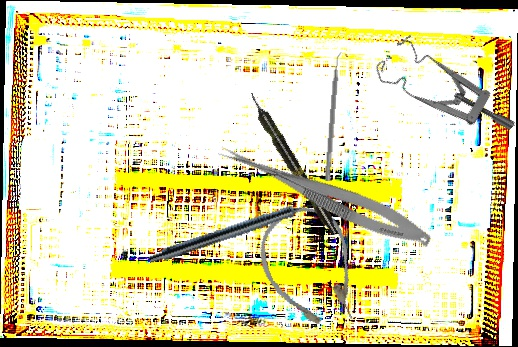Cannula: (245, 194, 376, 345)
Handpiece: (245, 90, 341, 237), (147, 193, 326, 270)
Micro Scissor: (212, 138, 437, 254)
Spatula Surgical: (324, 51, 345, 182)
Speculum: (368, 16, 517, 174)
